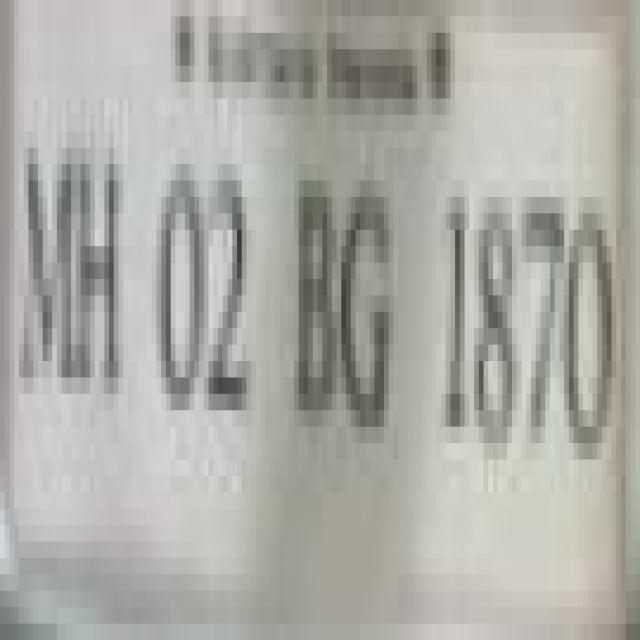license_plate: (0, 32, 616, 574)
